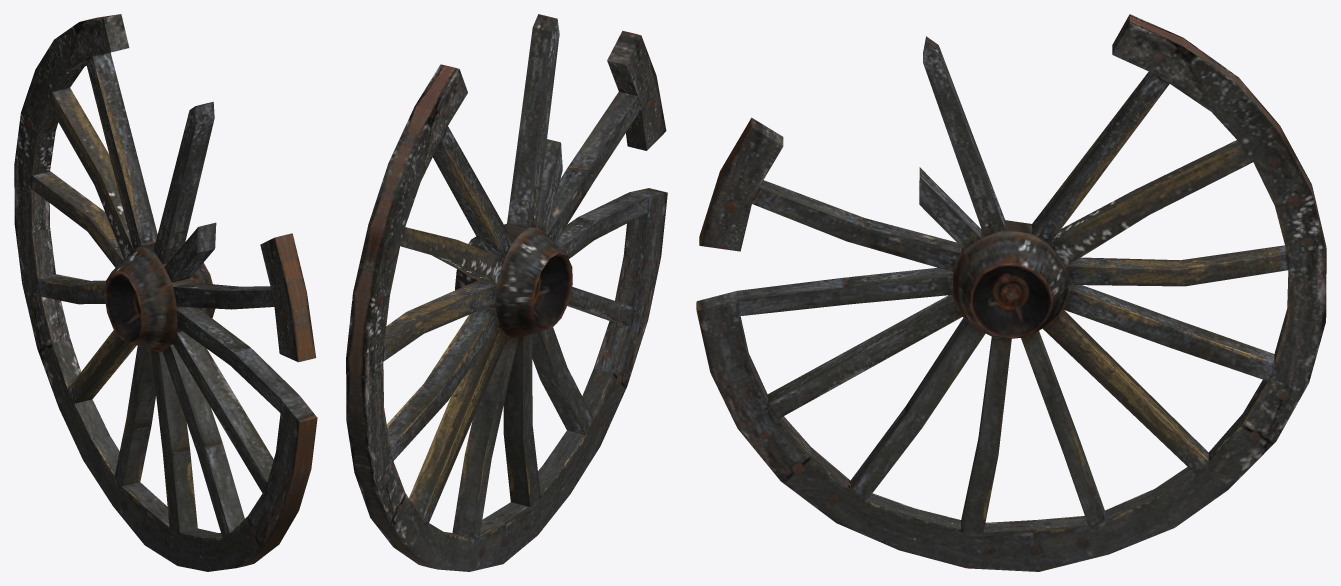
File: Wheeldamaged_LOD01.fbx
3 renders of one model, left to right at view 1: azimuth 30°, elevation 25°; view 2: azimuth 150°, elevation 25°; view 3: azimuth 270°, elevation 25°, orthographic. The views are drawn at different scales.
Visible parts, largest first — view 1: Default_Layer; view 2: Default_Layer; view 3: Default_Layer.
Boxes of the visible parts, left/top/right/bottom form: Default_Layer: left=14, top=14, right=317, bottom=571; Default_Layer: left=346, top=14, right=667, bottom=571; Default_Layer: left=696, top=14, right=1326, bottom=571.
Size of the model in its own units: 14.88 by 95.3 by 99.21.
